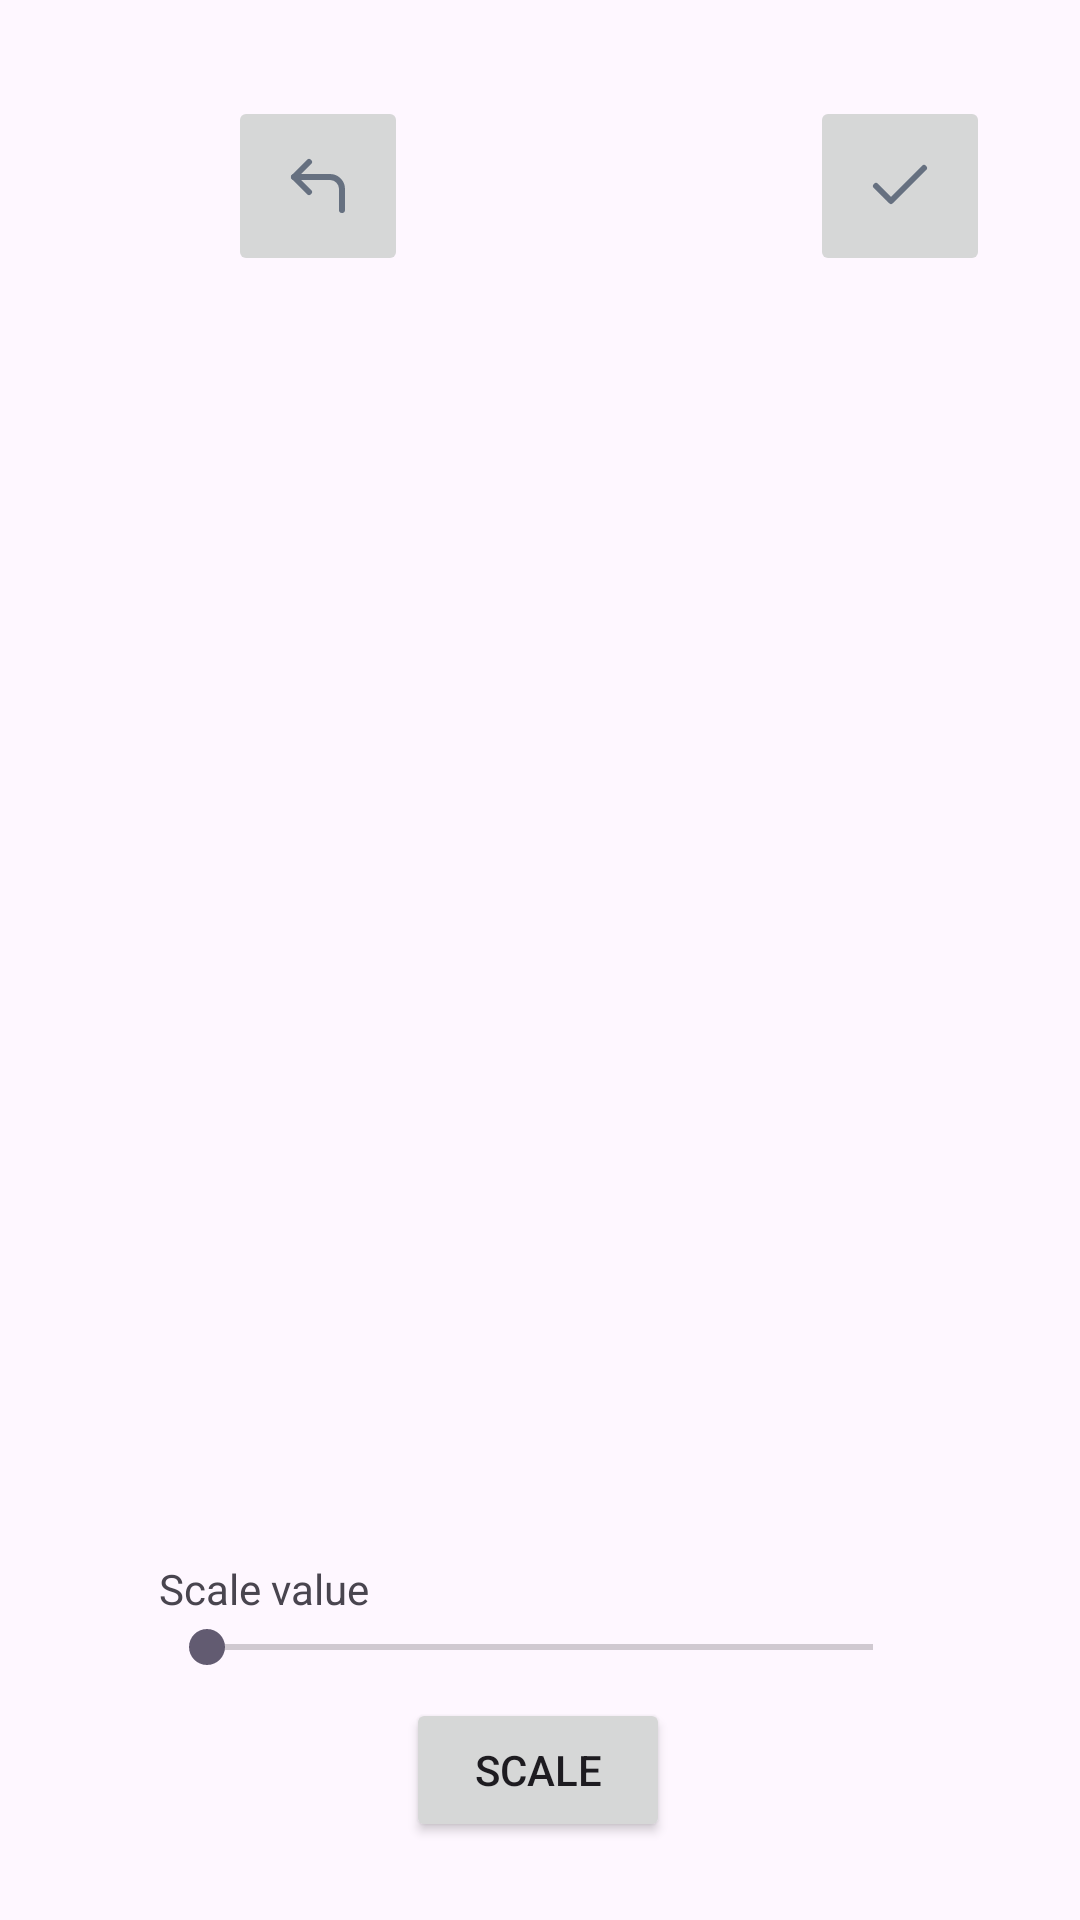

Icon bounding boxes for this 1080x1920 phone screenshot, format (x1, y1, x2, y2):
check: (822, 114, 978, 258)
corner up left: (240, 114, 396, 258)
